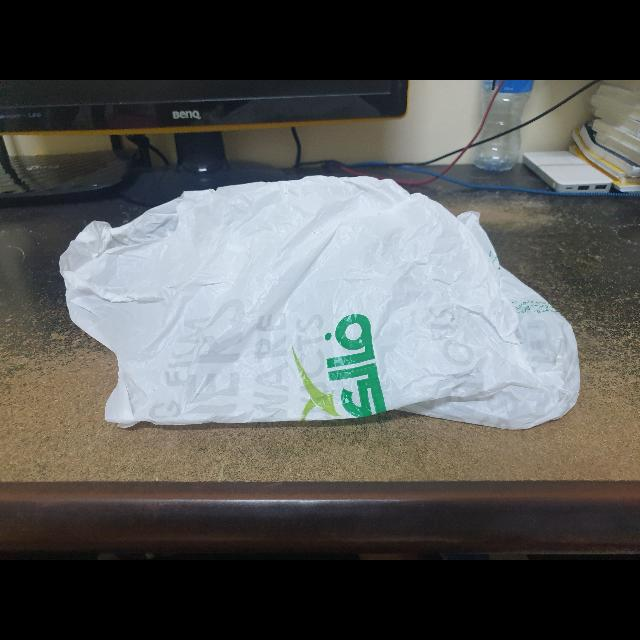plastic_bag: (48, 167, 596, 457)
